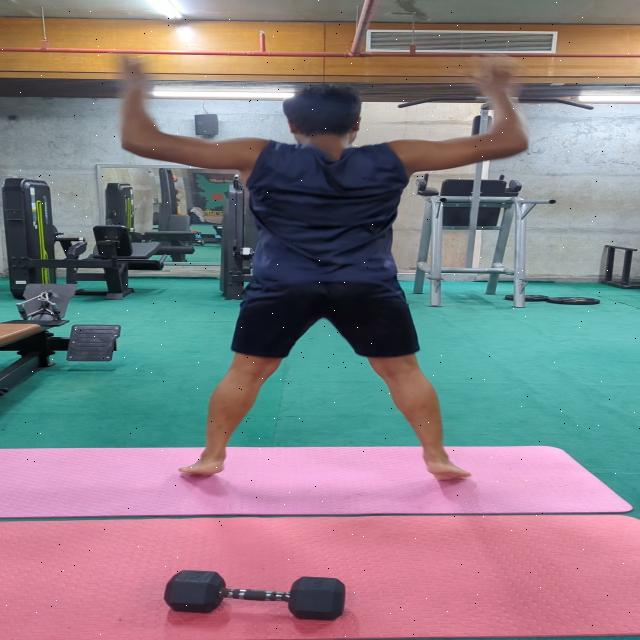Normal_JumpingJacks: (79, 49, 553, 490)
